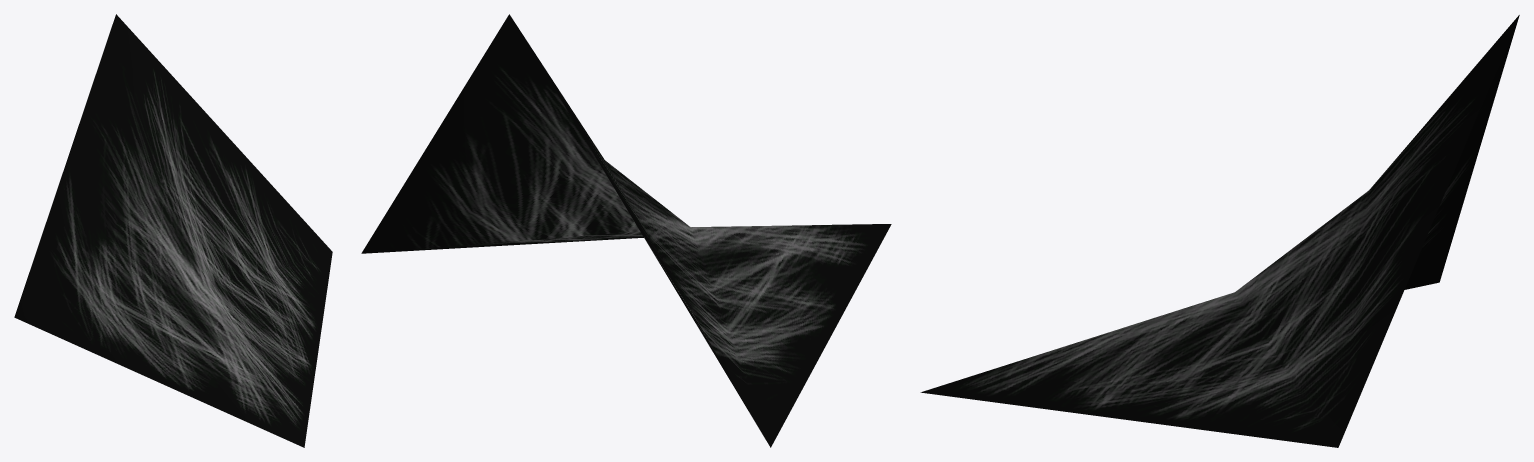
Rendered from EKH_GROTTO_PS_GR_CORNER_WEB__NC08.fbx.
The picture shows the model from 3 angles, left to right: view 1: azimuth 30°, elevation 25°; view 2: azimuth 150°, elevation 25°; view 3: azimuth 270°, elevation 25°; orthographic projection. The views are drawn at different scales.
Visible parts, largest first — view 1: EKH_GROTTO_PS_GR_CORNER_WEB__NC08; view 2: EKH_GROTTO_PS_GR_CORNER_WEB__NC08; view 3: EKH_GROTTO_PS_GR_CORNER_WEB__NC08.
Boxes of the visible parts, x1,y1,x2,y2 form: EKH_GROTTO_PS_GR_CORNER_WEB__NC08: (14,14,332,447); EKH_GROTTO_PS_GR_CORNER_WEB__NC08: (361,14,891,447); EKH_GROTTO_PS_GR_CORNER_WEB__NC08: (920,15,1519,447).
Bounding box in the file's own units: 31447 × 29218 × 40372.
1 material, 1 textured.
